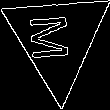M_E: (33, 14, 82, 65)
